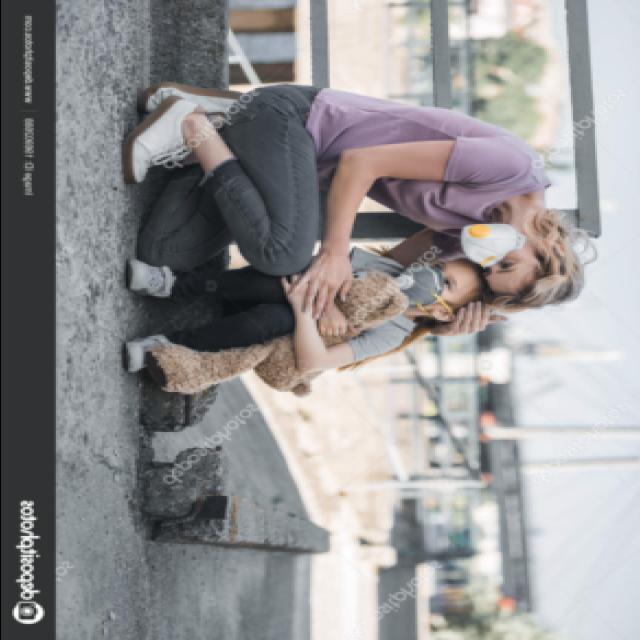with_mask: (462, 222, 530, 280), (392, 261, 460, 312)
